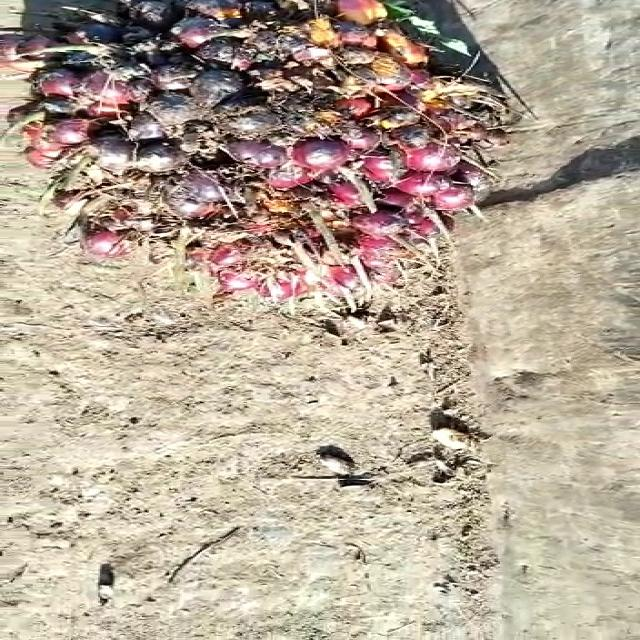palm oil: (7, 0, 533, 302)
